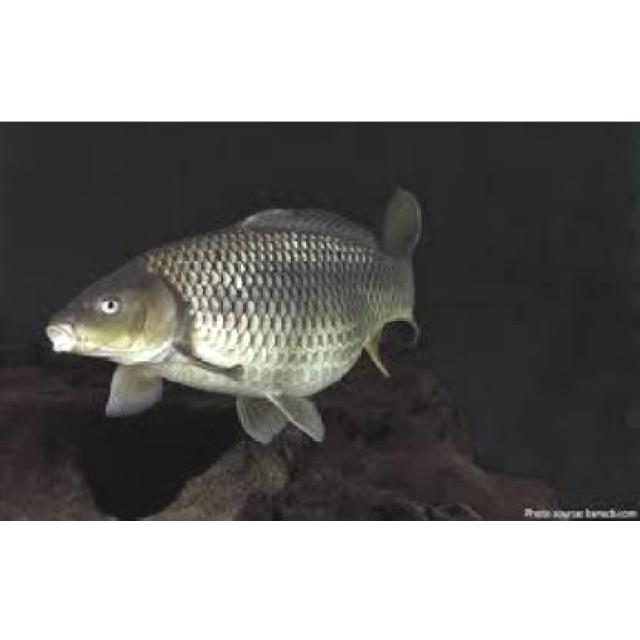ikan-mas: (42, 197, 416, 446)
